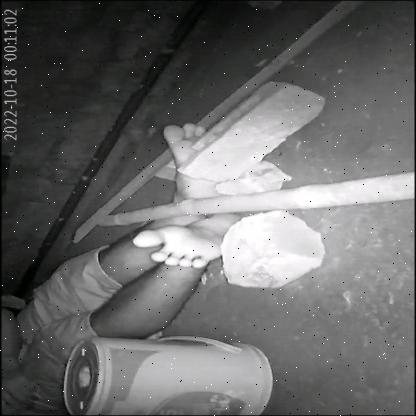leg: (95, 214, 262, 324), (95, 115, 235, 200)
